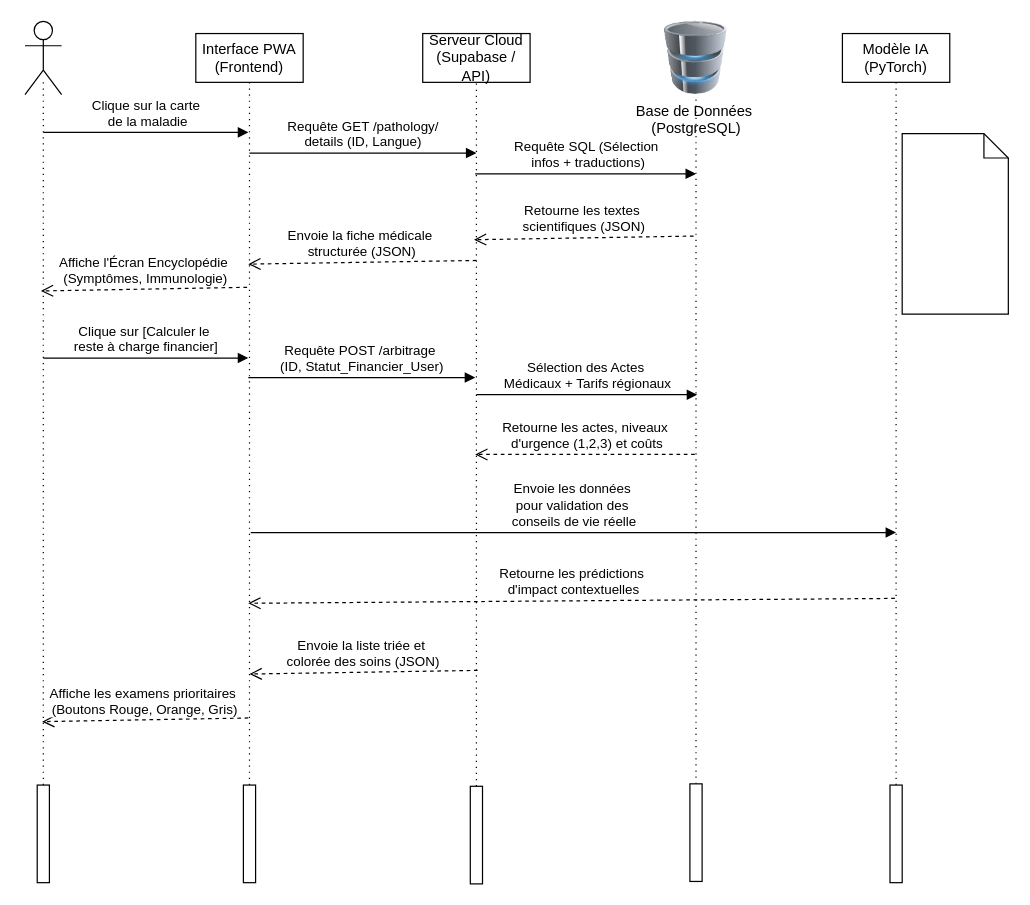
Image size: 1030x905. Some labels were removed from this diagram. Here are the shapes that lost their labels. From the top down, the centre of each, then its label:
the point at 43,57: Patient
the point at 954,223: Note : L'IA enrichit la réponse avec des alternatives économiques de confort.
